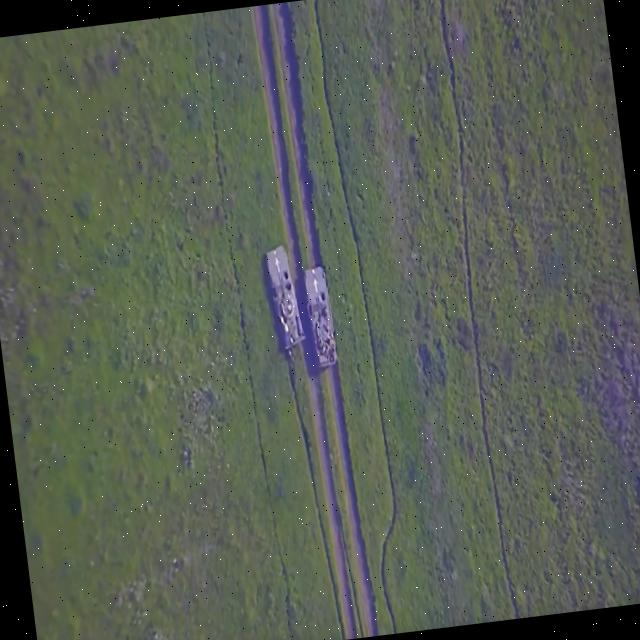AIFV: (260, 243, 310, 362), (299, 263, 341, 373)
